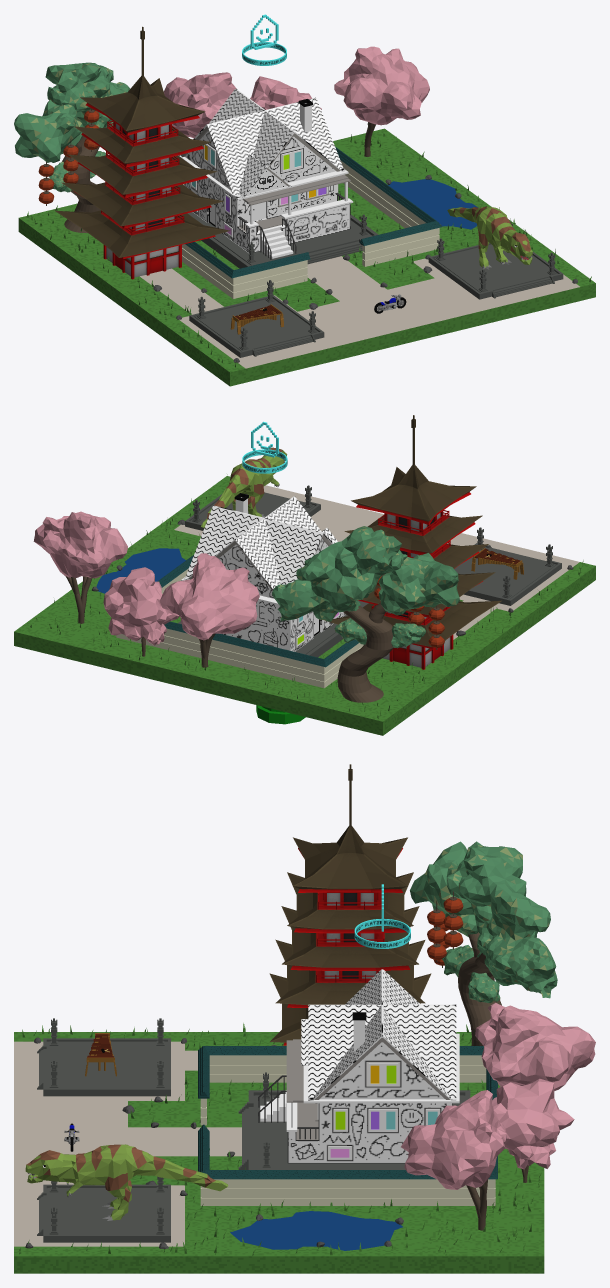
3 renders of one model, top to bottom at view 1: azimuth 30°, elevation 25°; view 2: azimuth 150°, elevation 25°; view 3: azimuth 270°, elevation 25°, orthographic. The views are drawn at different scales.
Visible parts, largest first — view 1: Cube.005, Cube.879, ANIMAL_TREX, TYPE_PREMIUM, OBJRANDOM_MARIMBA; view 2: Cube.005, Cube.879, ANIMAL_TREX, TYPE_PREMIUM, OBJRANDOM_MARIMBA, UNDERGROUND_PIPES; view 3: Cube.005, Cube.879, ANIMAL_TREX, TYPE_PREMIUM, OBJRANDOM_MARIMBA.
Boxes of the visible parts, x1,y1,x2,y2 form: Cube.005: (14,26,595,386); Cube.879: (178,89,353,259); ANIMAL_TREX: (447,206,532,269); TYPE_PREMIUM: (242,14,286,65); OBJRANDOM_MARIMBA: (230,304,283,334); Cube.005: (14,415,595,735); Cube.879: (181,493,345,651); ANIMAL_TREX: (201,447,287,527); TYPE_PREMIUM: (242,421,287,473); OBJRANDOM_MARIMBA: (471,548,523,579); UNDERGROUND_PIPES: (256,705,305,724); Cube.005: (14,764,595,1273); Cube.879: (258,969,459,1163); ANIMAL_TREX: (25,1144,228,1220); TYPE_PREMIUM: (354,884,410,948); OBJRANDOM_MARIMBA: (85,1033,116,1076).
Bounding box in the file's own units: 4528 × 3273 × 4389.
45 materials, 13 textured.
